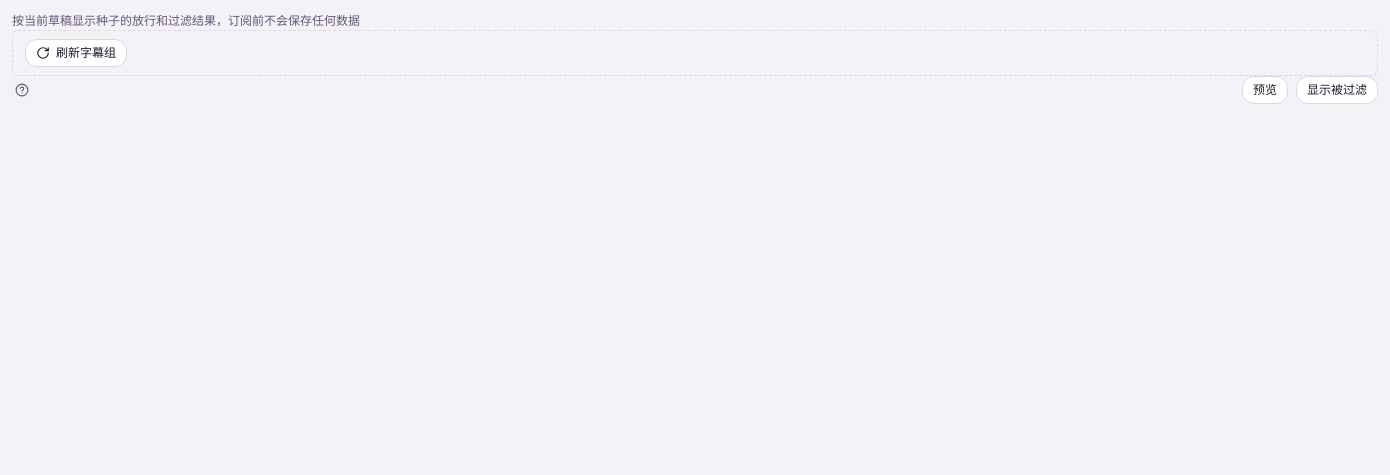
Test: 订阅前 RSS 工作区：草稿偏移编辑与文件行 › 展开种子不再显示「来源」行；文件 meta 单行不折行
The width and height of the screenshot is (1390, 475).
Click the button "预览". click: (1265, 90)
box: top-left (1242, 76), bottom-right (1288, 104)
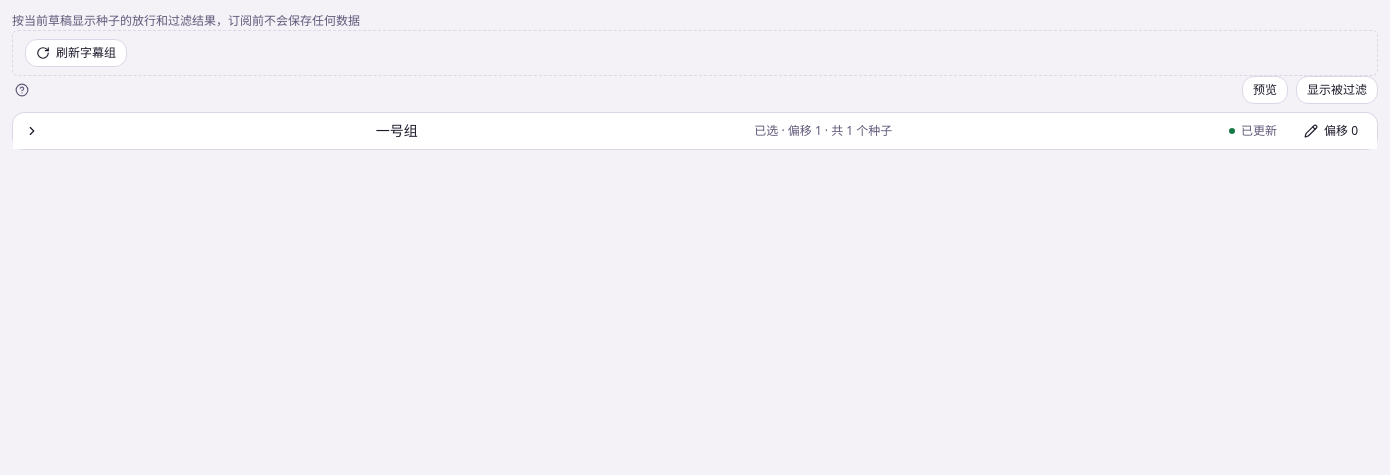
Expected: the text "一号组" is shown, top-left (376, 121), bottom-right (418, 141)
Click the button "一号组 已选 · 偏移 1 · 共 1 个种子 已更新". click: (397, 131)
box: top-left (13, 113), bottom-right (1289, 149)
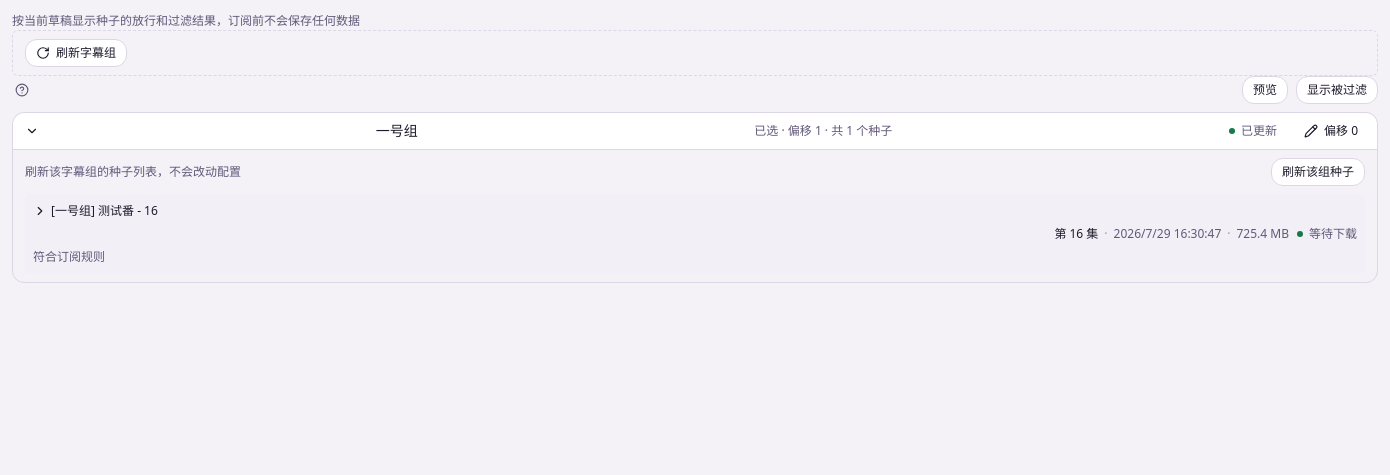
Click the button with aria-label "展开文件与状态". click: (104, 210)
box: top-left (33, 202), bottom-right (1357, 220)
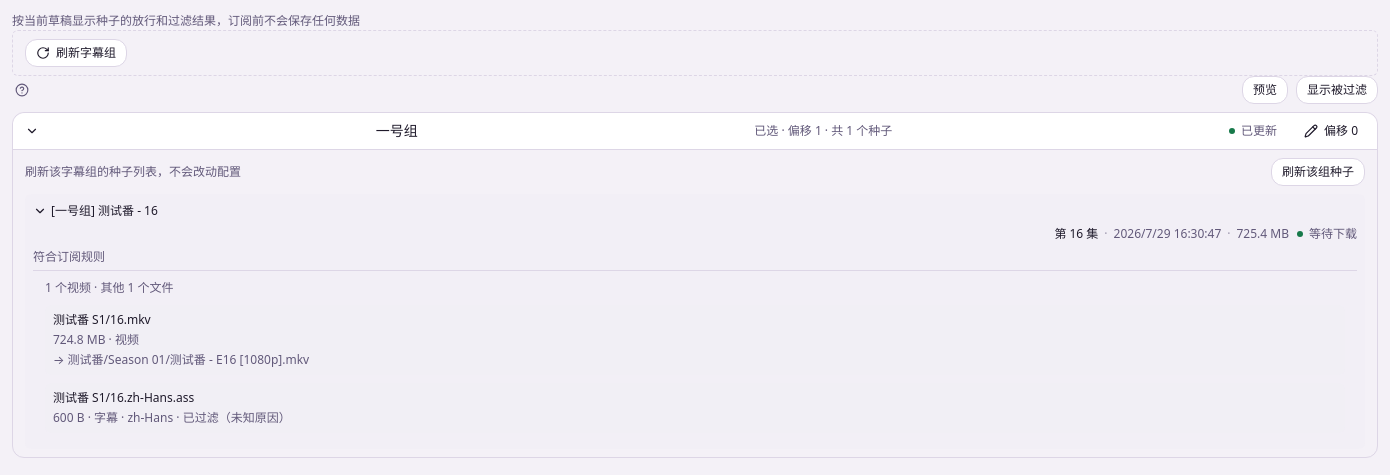
Expected: the text "测试番 S1/16.mkv" is shown, top-left (53, 311), bottom-right (151, 328)
Expected: the text "724.8 MB · 视频" is shown, top-left (53, 331), bottom-right (139, 348)
Expected: the text with class "seed-row-meta-nowrap" shows "视频", top-left (115, 331), bottom-right (139, 348)
